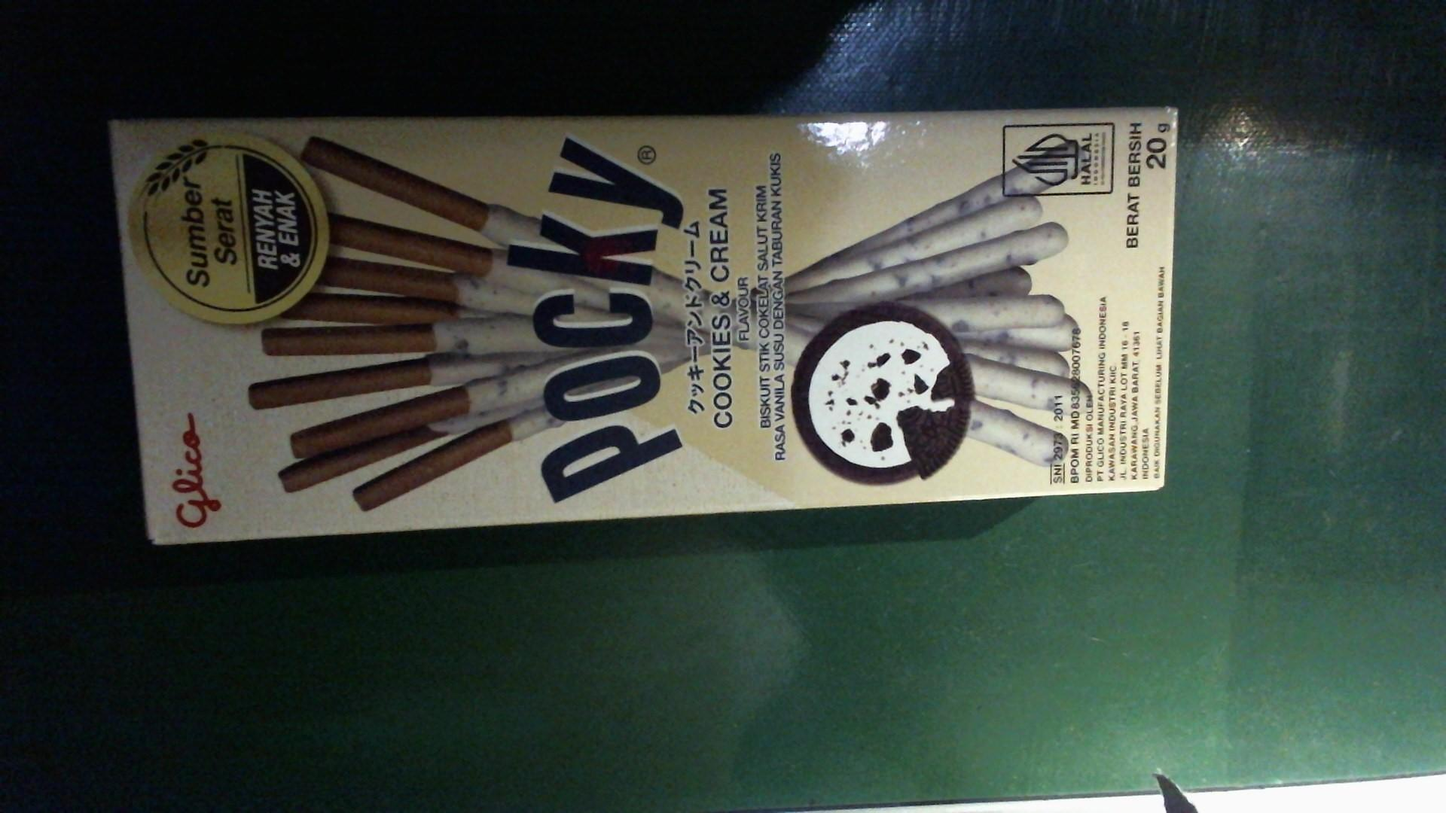Kertas: (105, 109, 1179, 561)
